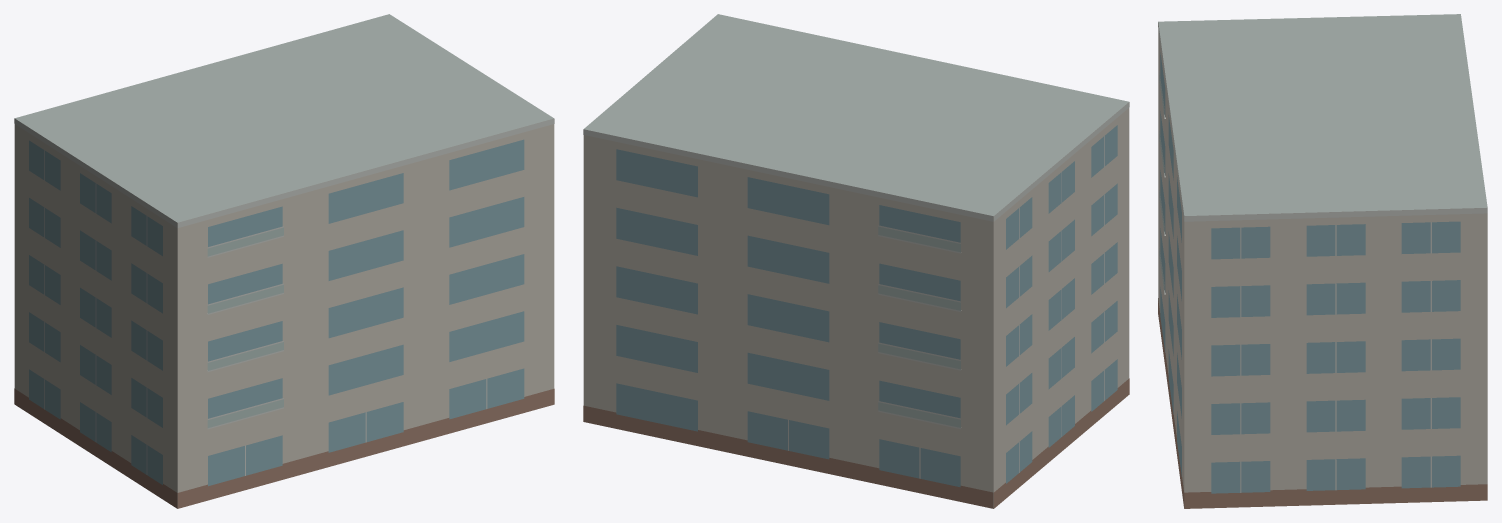
File: survey-upis-32745655.glb
3 views of the same model, side by side, from view 1: azimuth 30°, elevation 25°; view 2: azimuth 150°, elevation 25°; view 3: azimuth 270°, elevation 25° (orthographic). The views are drawn at different scales.
Visible parts, largest first — view 1: survey-upis-32745655.tmp; view 2: survey-upis-32745655.tmp; view 3: survey-upis-32745655.tmp.
Boxes of the visible parts, x1,y1,x2,y2 form: survey-upis-32745655.tmp: (14, 14, 554, 508); survey-upis-32745655.tmp: (583, 14, 1129, 508); survey-upis-32745655.tmp: (1158, 14, 1487, 508).
Size of the model in its own units: 18.81 by 12.7 by 12.96.
